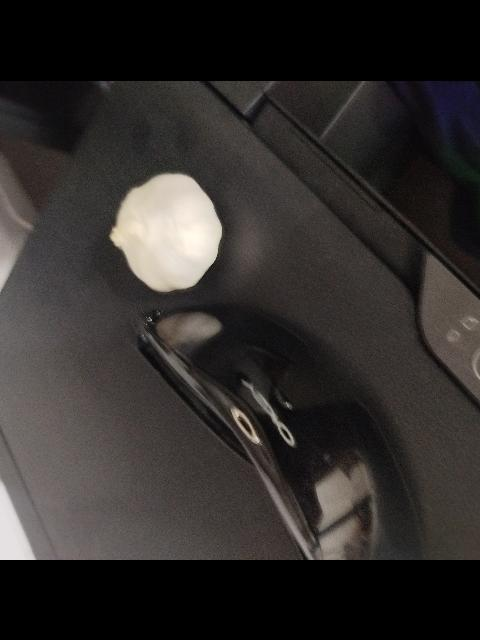garlic: (87, 147, 239, 325)
